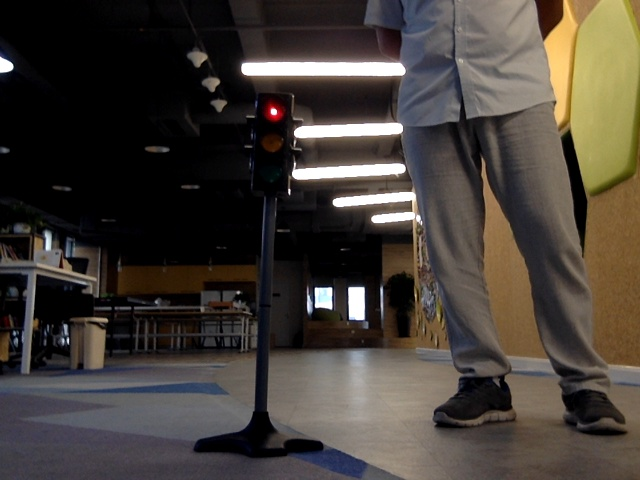red: (254, 94, 289, 189)
